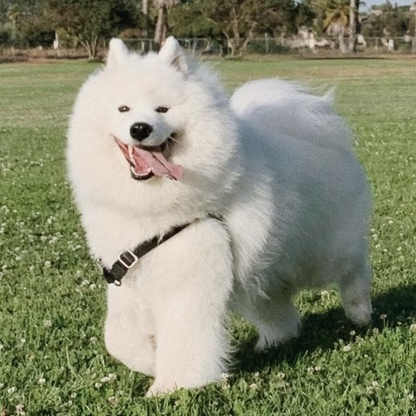samoyed: (60, 32, 378, 404)
